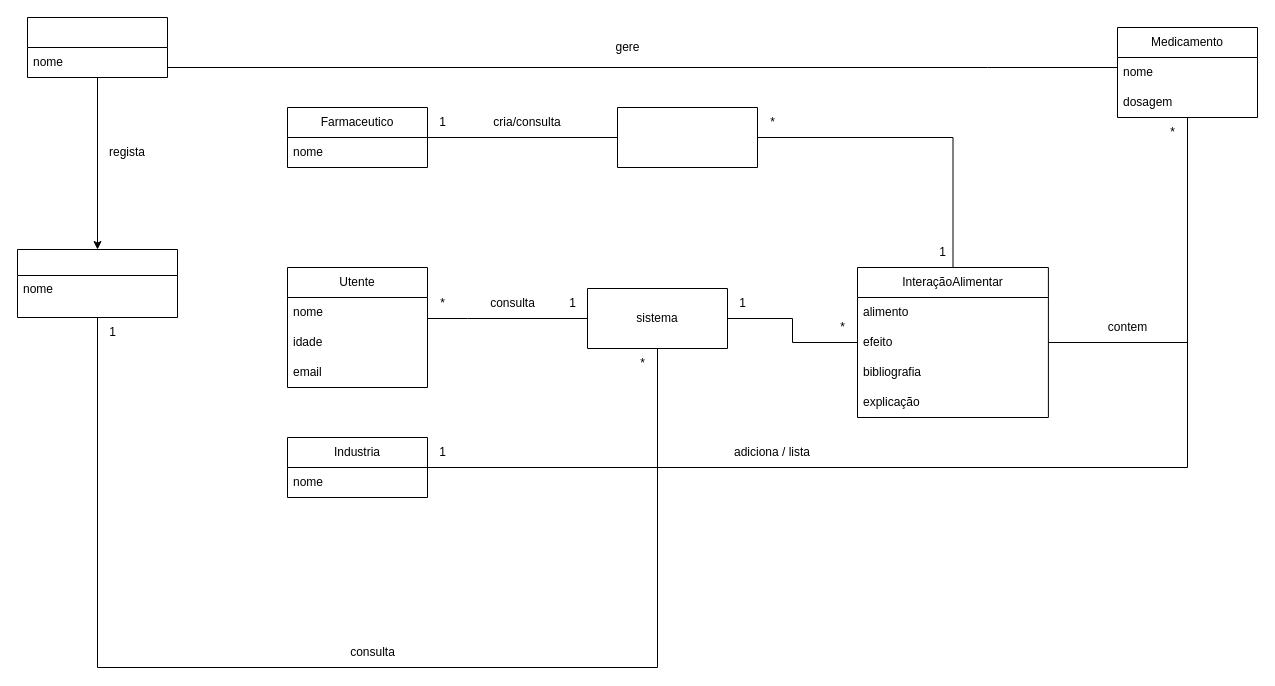
This 1275x686 diagram has some shape labels left out. The box of each missing label's shape, as (x1, y1, x2, y2) in pixels:
Admin: (26, 16, 168, 78)
farmaceuticoIteração: (616, 106, 758, 168)
Utilizador: (16, 248, 178, 318)
